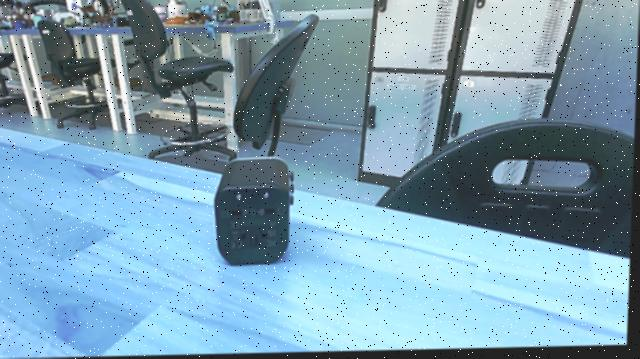adapter: (206, 152, 305, 279)
